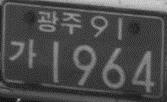1: (51, 38, 61, 83), (115, 16, 124, 40)
4: (130, 49, 155, 94)
6: (101, 46, 126, 89)
9: (72, 44, 96, 86), (90, 14, 107, 40)
가: (9, 38, 37, 69)
광주_O: (36, 8, 83, 34)
